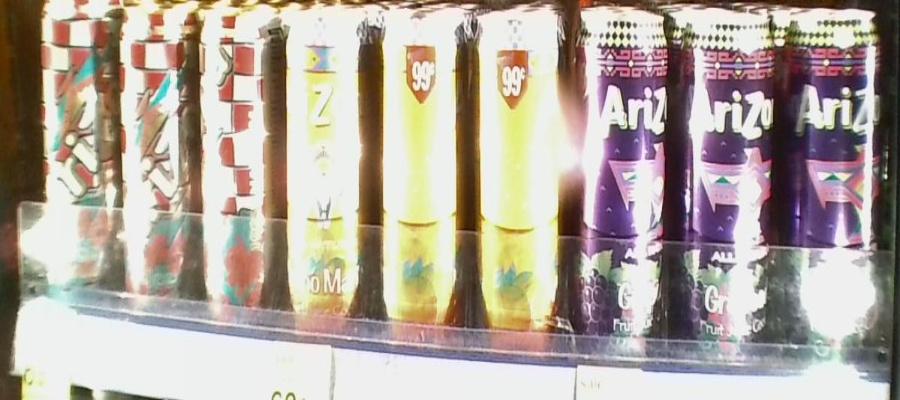bottle: (670, 15, 776, 369), (566, 3, 670, 361), (781, 13, 885, 369), (470, 3, 566, 351), (375, 3, 468, 343), (286, 9, 372, 340), (33, 2, 118, 312), (198, 10, 281, 326), (119, 8, 194, 320)
